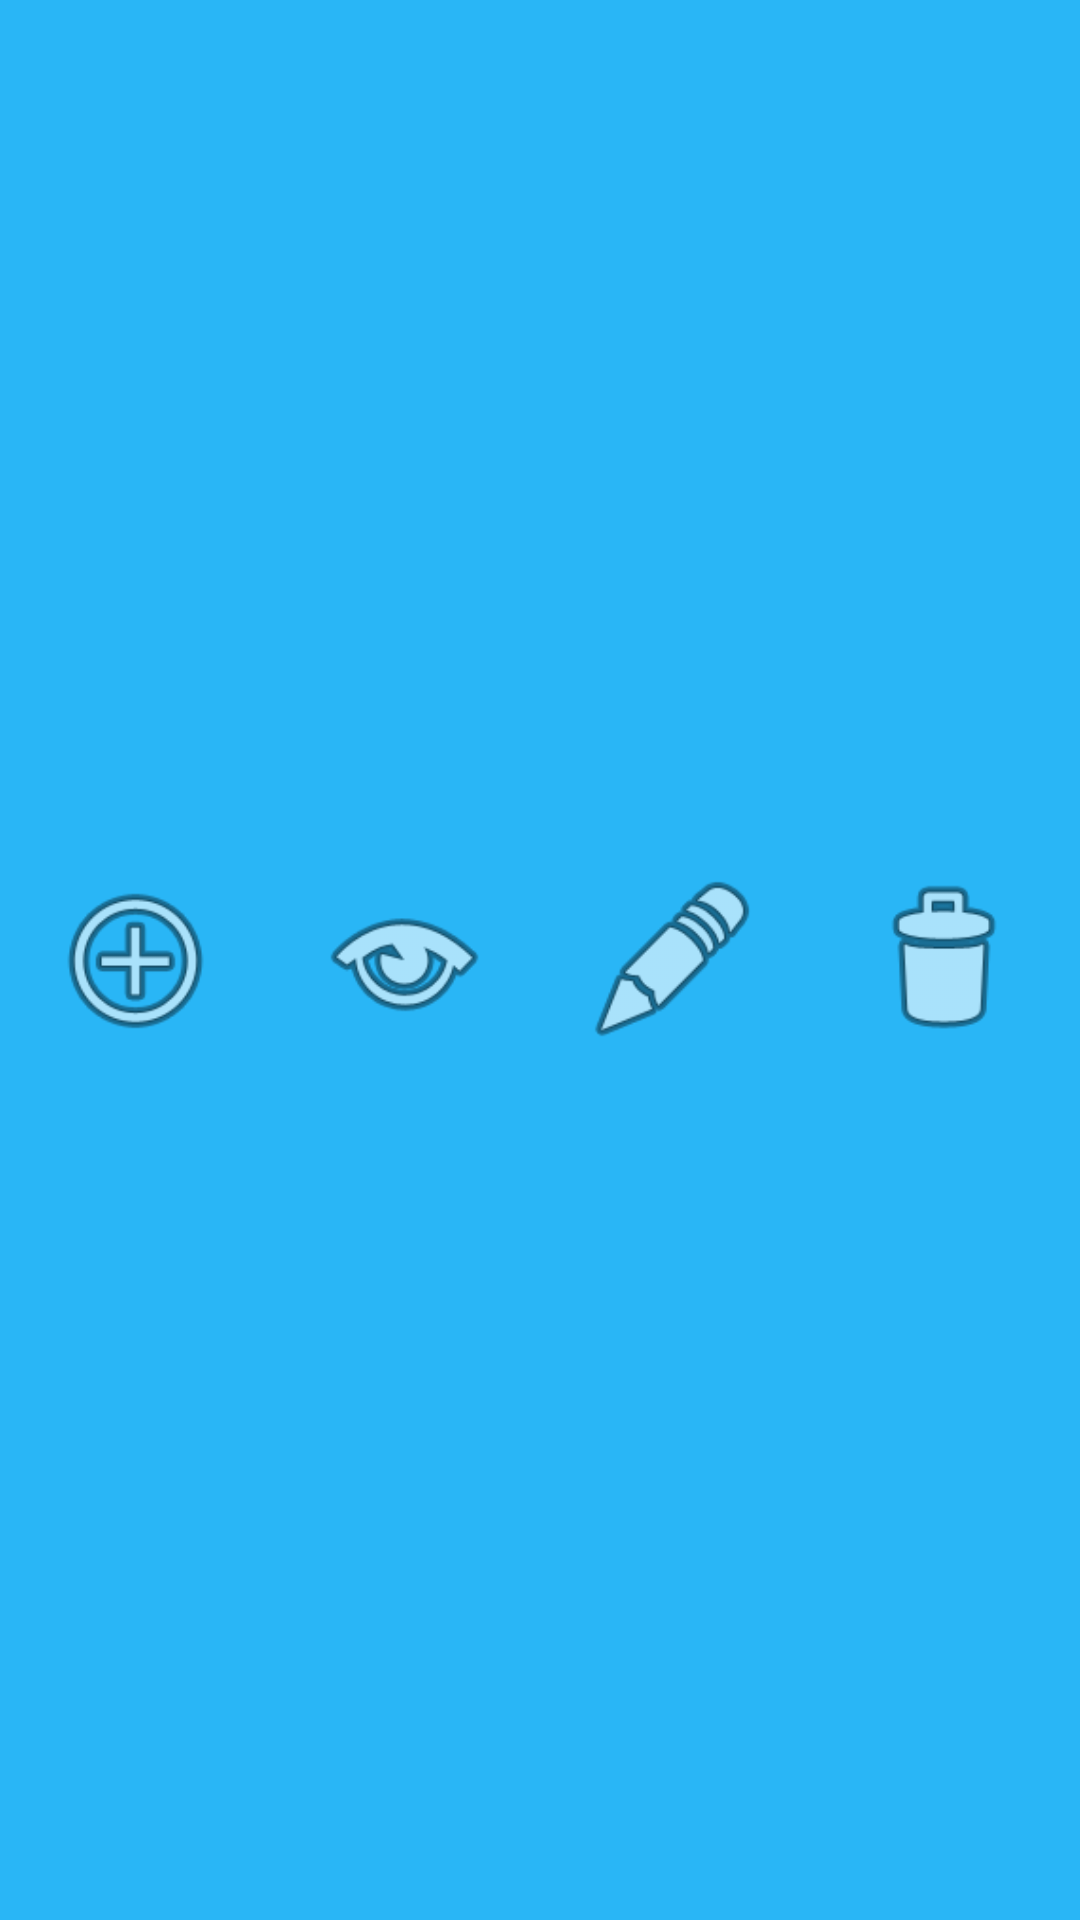

Icon click points for this 1080x1920 phone screenshot, format point (x, y):
add: point (135, 961)
delete: point (944, 957)
edit: point (672, 959)
view: point (404, 964)
